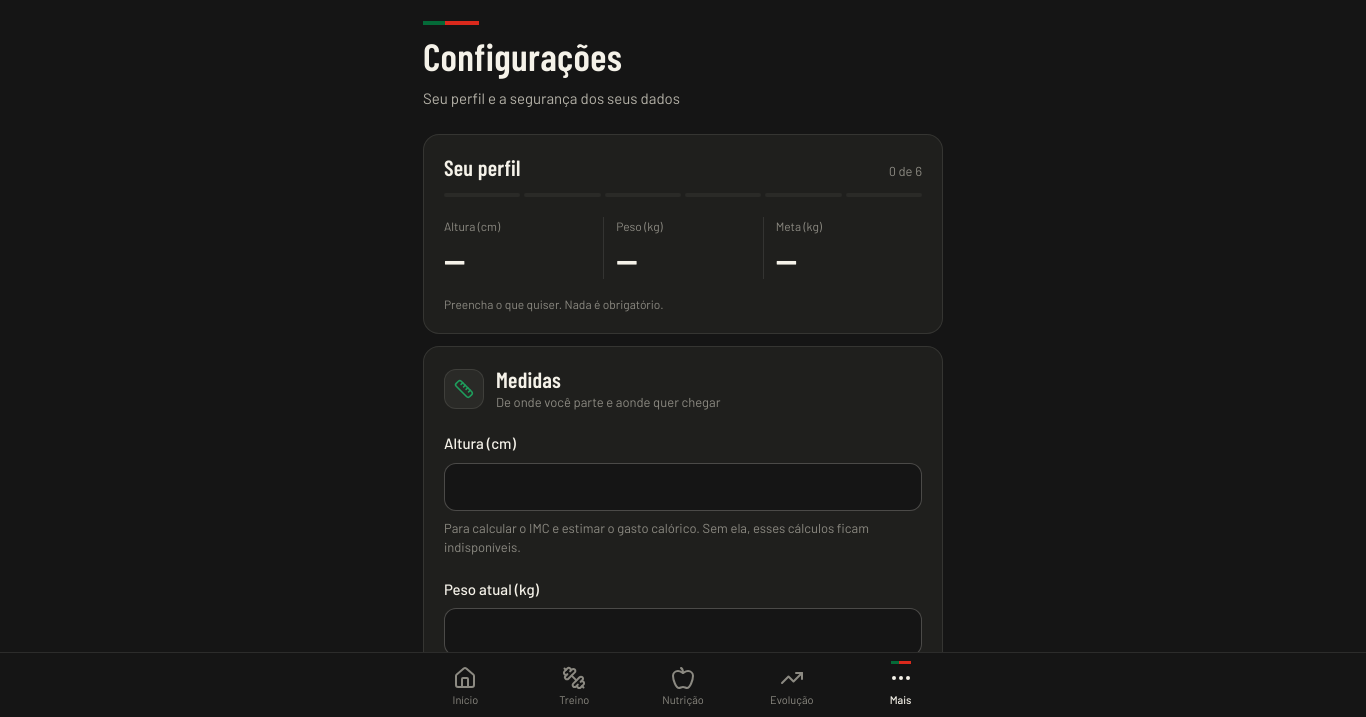
Test: Configurações › apaga o perfil depois de confirmar
In the field labelled "Altura (cm)": (683, 487) x1=444 y1=463 x2=922 y2=511, type "170"
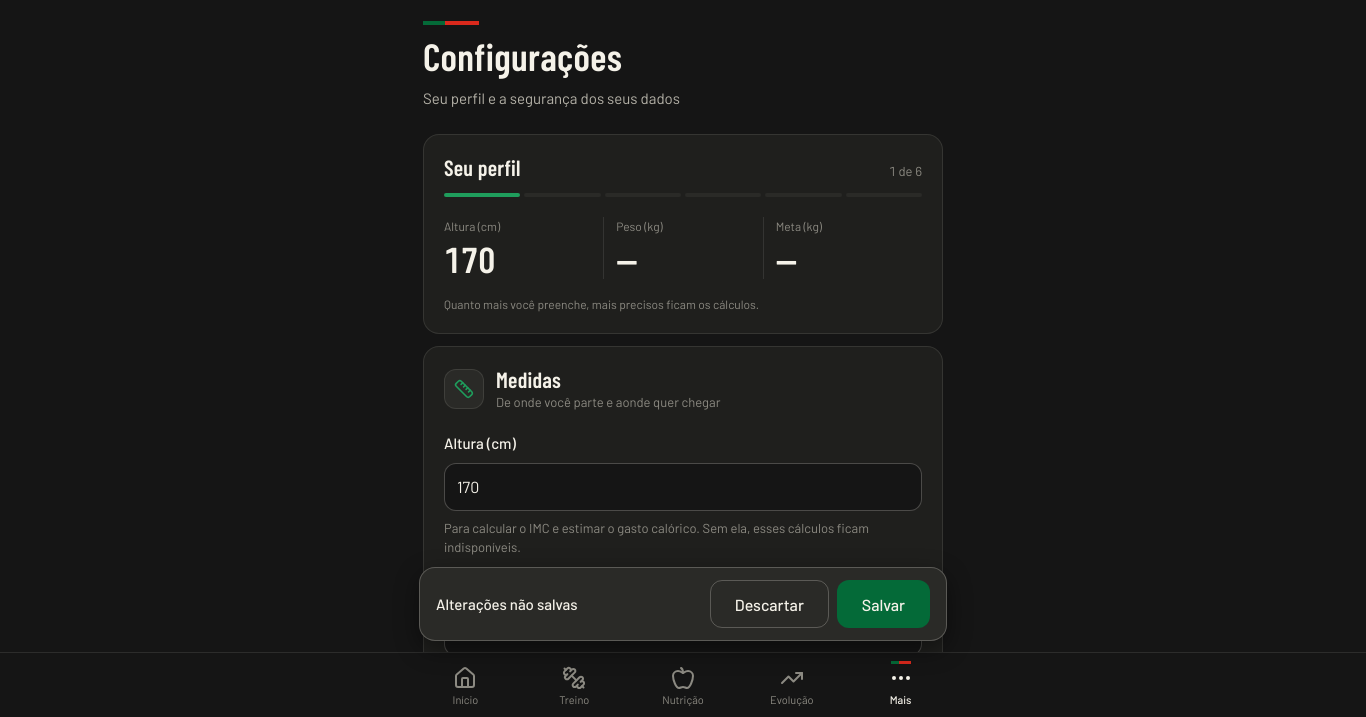
Click the button "Salvar": (883, 604) x1=837 y1=580 x2=930 y2=628
(page scrolled)
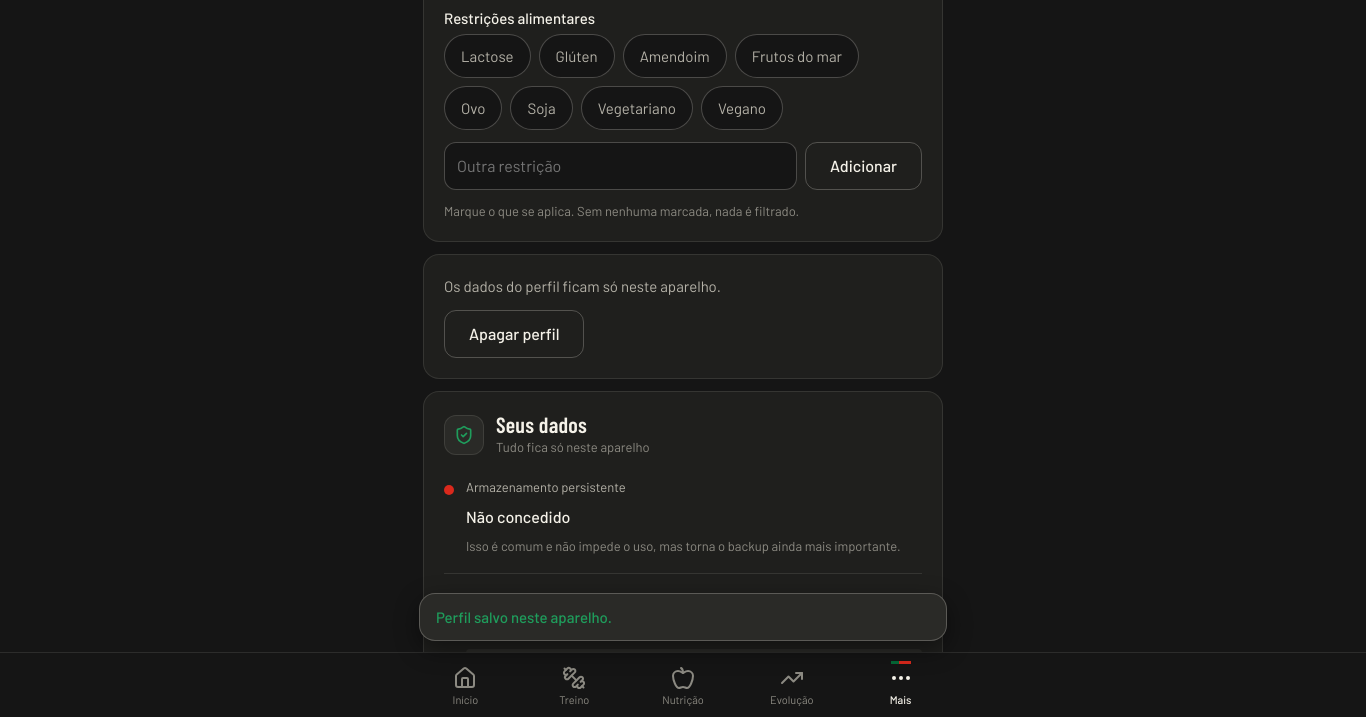
Expected: the text "Perfil salvo neste aparelho." is shown, x1=436 y1=606 x2=612 y2=628
Click the button "Apagar perfil": (514, 334) x1=444 y1=310 x2=584 y2=358
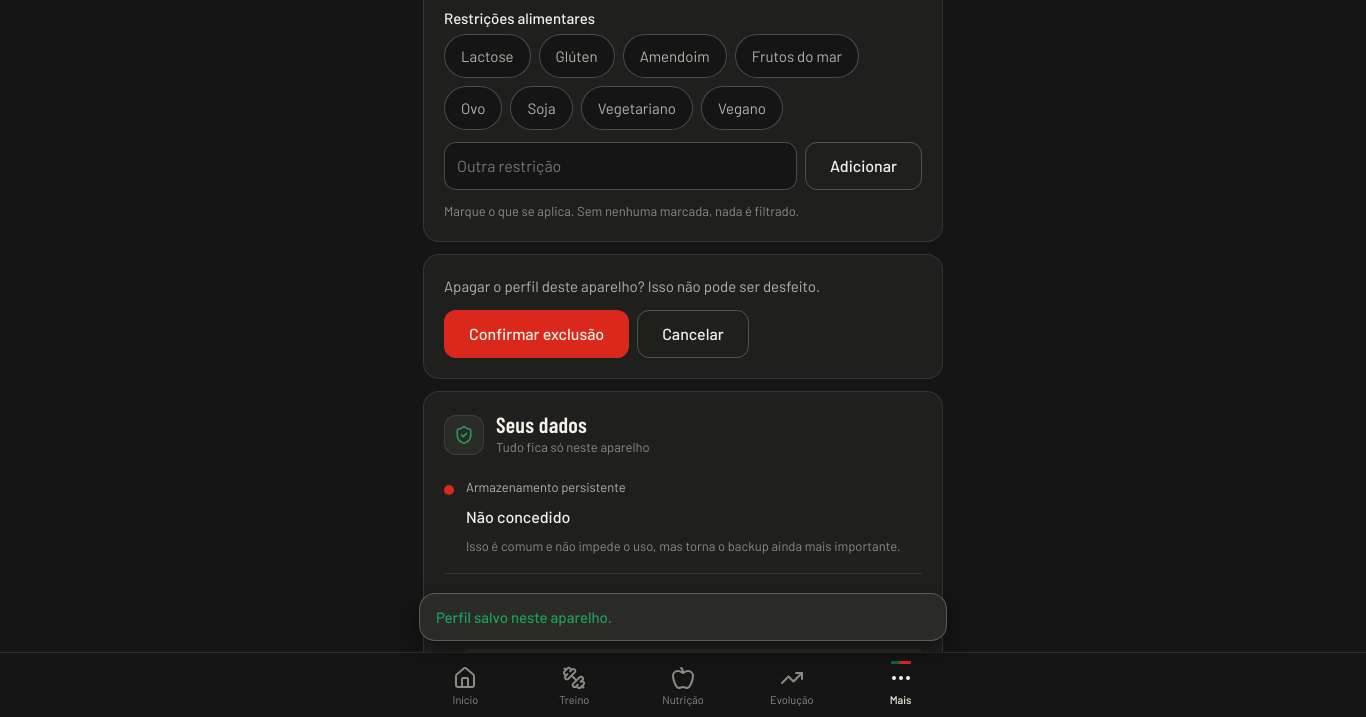
Click the button "Confirmar exclusão": (537, 334) x1=444 y1=310 x2=629 y2=358
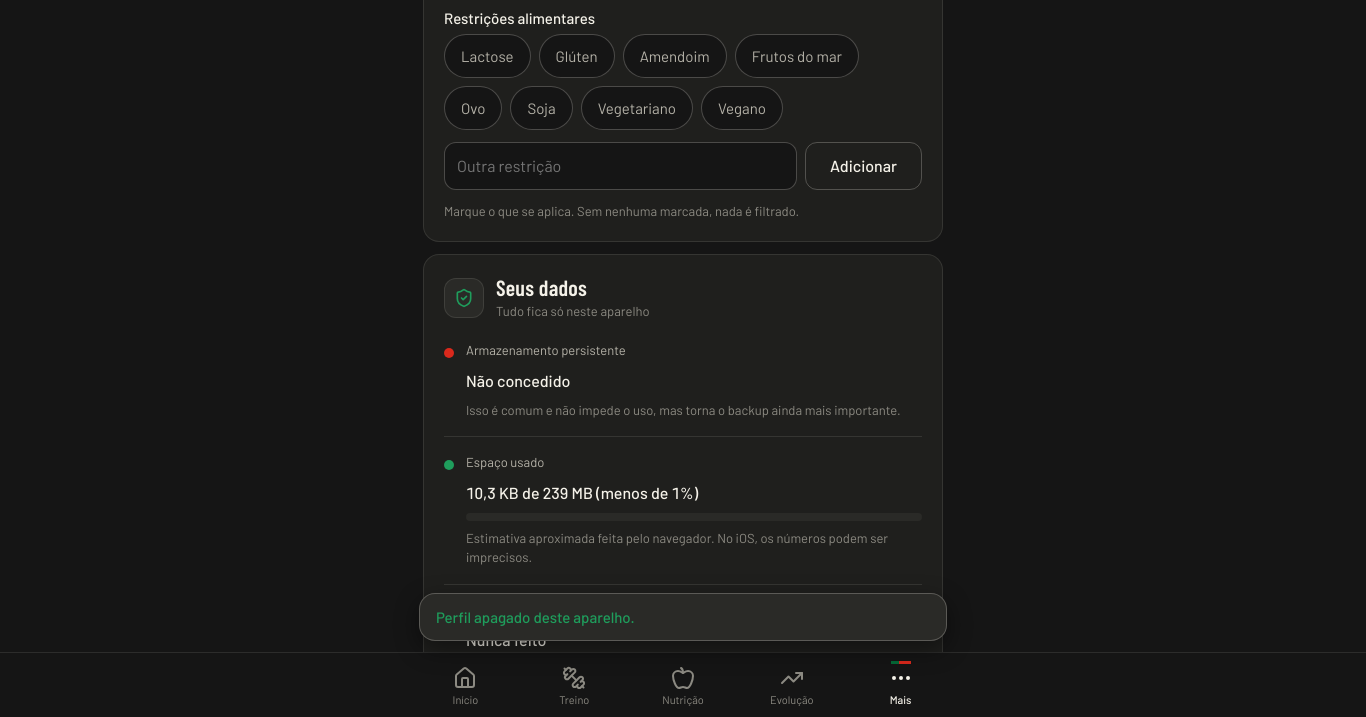
Expected: the text "Perfil apagado deste aparelho." is shown, x1=436 y1=606 x2=634 y2=628
